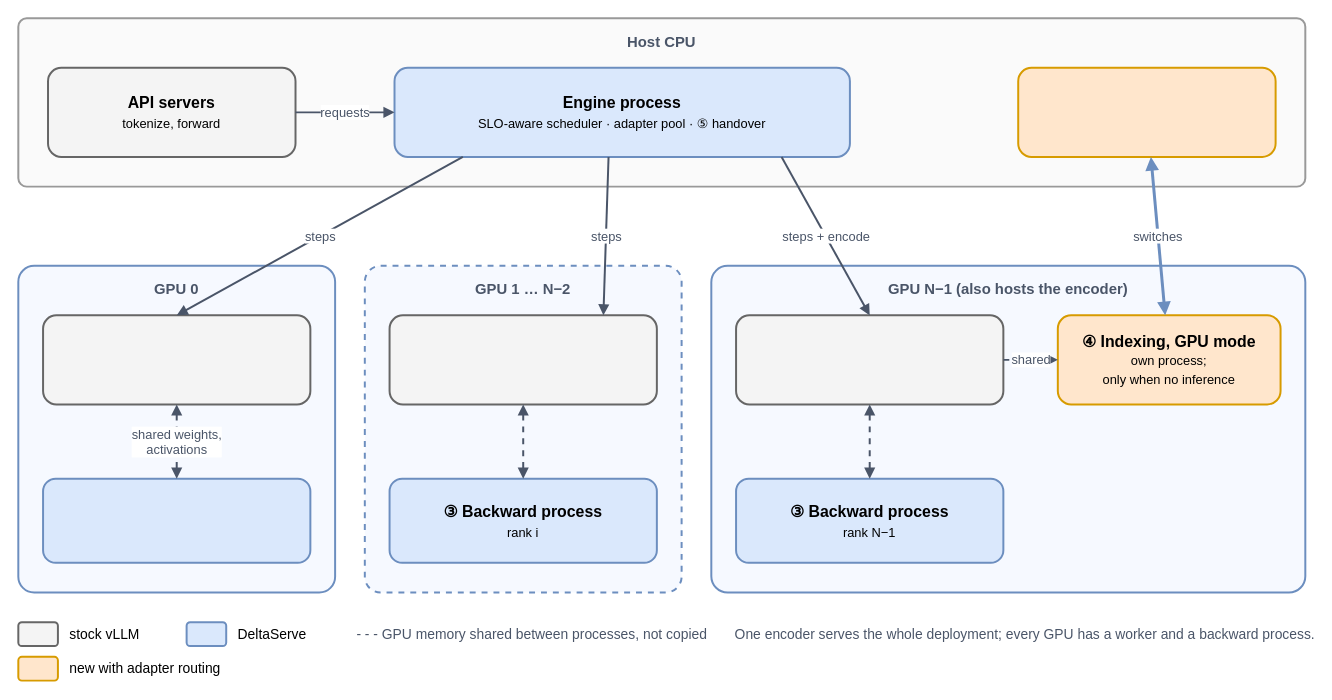
The diagram is 1332 pixels wide and 700 high, and some of its shapes have lost their labels. The shapes that lost their labels are listed below. From the top down, each one's centre as x and y in pixels, then its label:
the point at 1146,111: ④ Indexing, CPU mode while inference is present
the point at 176,359: Worker, rank 0 model shard · KV · LoRA slots
the point at 522,359: Worker, rank i same as rank 0
the point at 869,359: Worker, rank N−1 model shard · KV · LoRA slots + e5 encoder (① Encoding)
the point at 176,520: ③ Backward process rank 0
